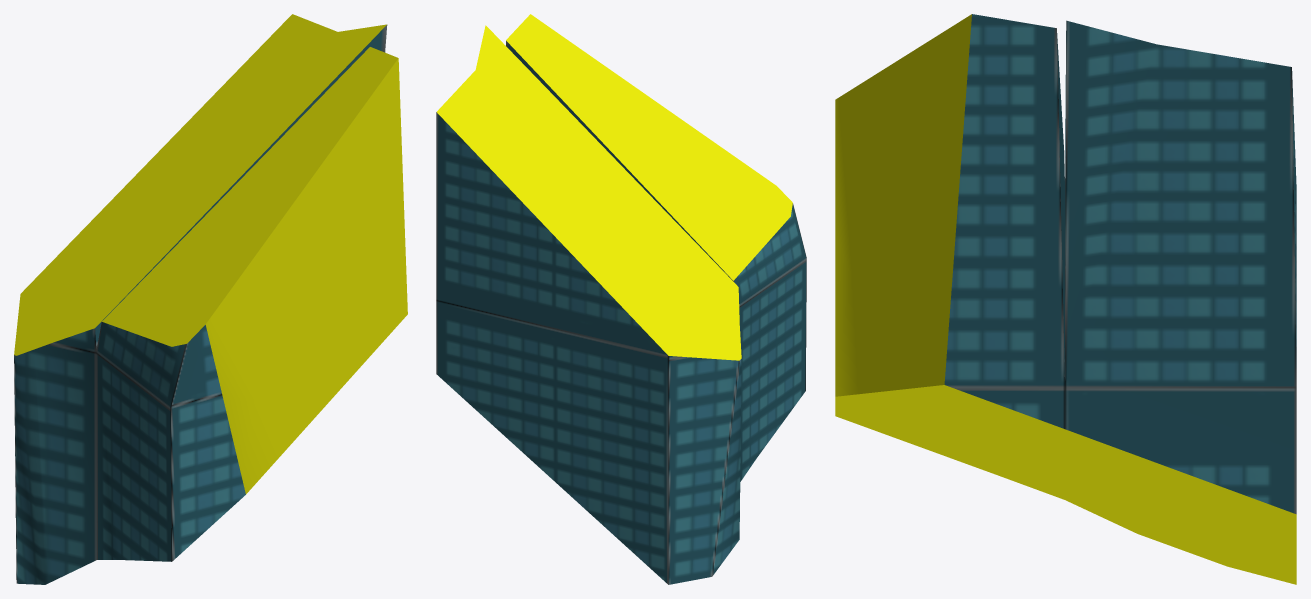
The model's file is boAShard3.fbx.
3 renders of one model, left to right at view 1: azimuth 30°, elevation 25°; view 2: azimuth 150°, elevation 25°; view 3: azimuth 270°, elevation 25°, orthographic. The views are drawn at different scales.
Visible parts, largest first — view 1: shard58; view 2: shard58; view 3: shard58.
Boxes of the visible parts, x1,y1,x2,y2 form: shard58: (14,14,407,584); shard58: (436,14,806,584); shard58: (835,14,1296,584).
Bounding box in the file's own units: 0.1137 × 0.17 × 0.0917.
2 materials, 1 textured.
